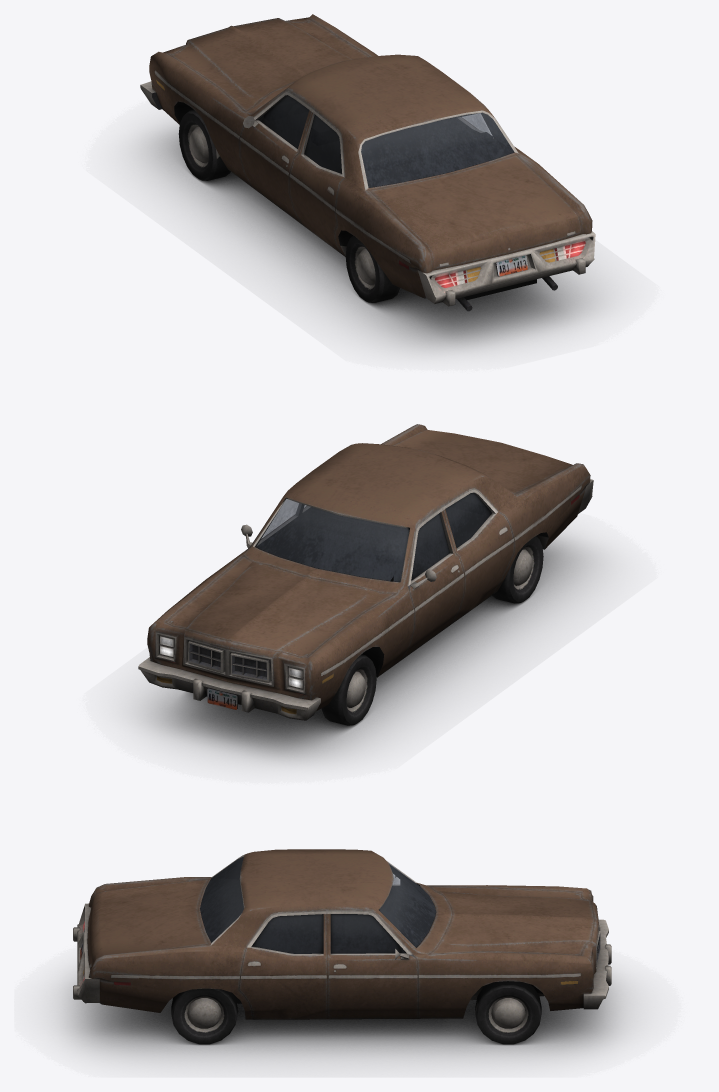
File: 1978_sedan.glb
3 views of the same model, one above another, from view 1: azimuth 30°, elevation 25°; view 2: azimuth 150°, elevation 25°; view 3: azimuth 270°, elevation 25° (orthographic). The views are drawn at different scales.
Parts seen in each view (by area): view 1: Object001_Material #33_0, Plane001, Object002_Material #34_0; view 2: Object001_Material #33_0, Plane001, Object002_Material #34_0; view 3: Object001_Material #33_0, Plane001, Object002_Material #34_0.
Boxes of the visible parts, box(x1,y1,x2,y2) form: Object001_Material #33_0: box(140, 14, 595, 311); Plane001: box(141, 123, 599, 350); Object002_Material #34_0: box(259, 95, 513, 187); Object001_Material #33_0: box(138, 424, 593, 725); Plane001: box(140, 535, 597, 761); Object002_Material #34_0: box(255, 493, 490, 581); Object001_Material #33_0: box(73, 849, 611, 1044); Plane001: box(61, 976, 625, 1059); Object002_Material #34_0: box(200, 857, 435, 953).
Bounding box in the file's own units: 155 × 71.47 × 327.
Materials: 3 (3 with a texture image).
